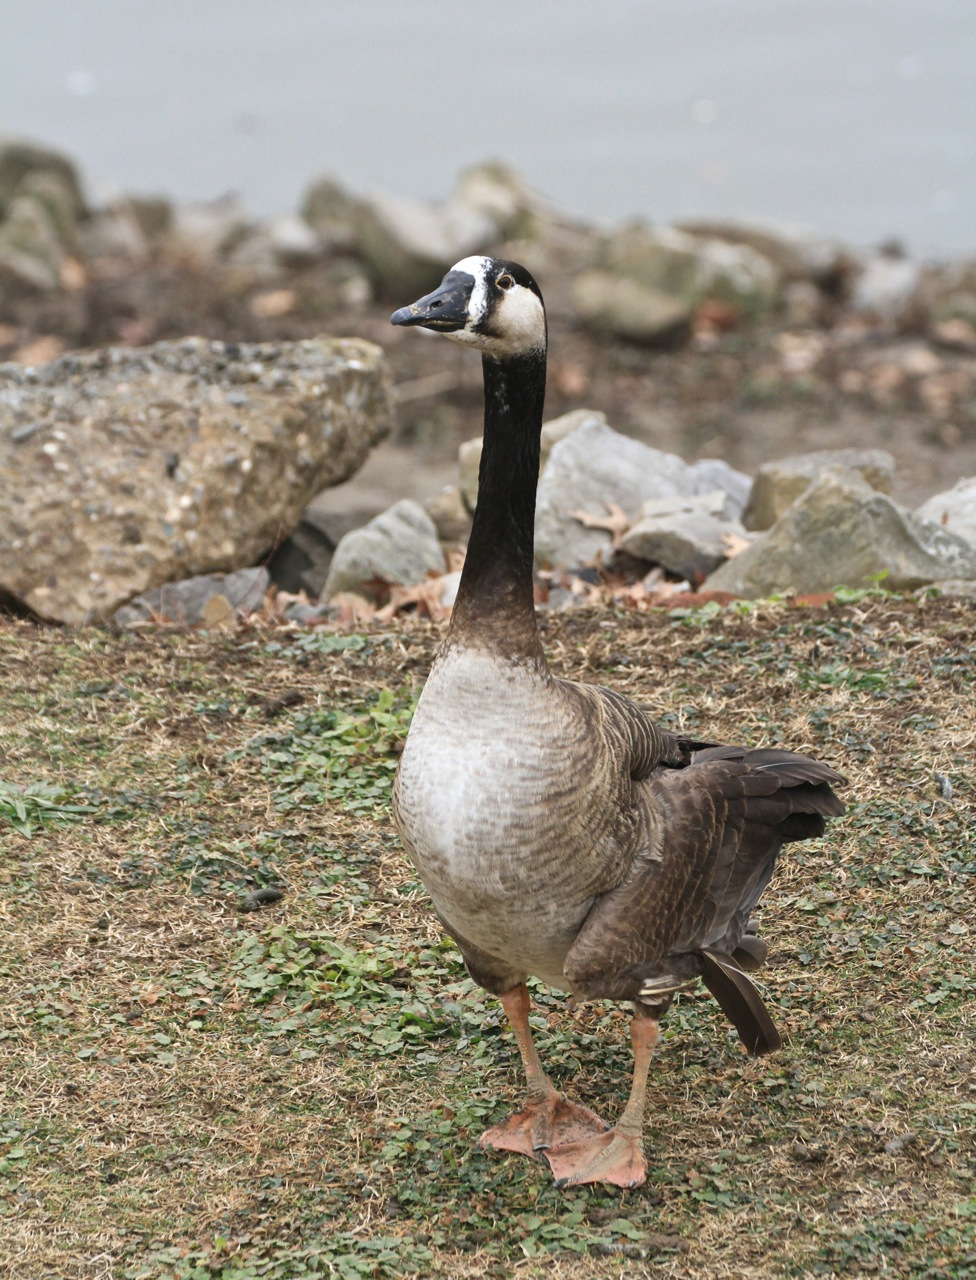goose: (377, 242, 855, 1188)
